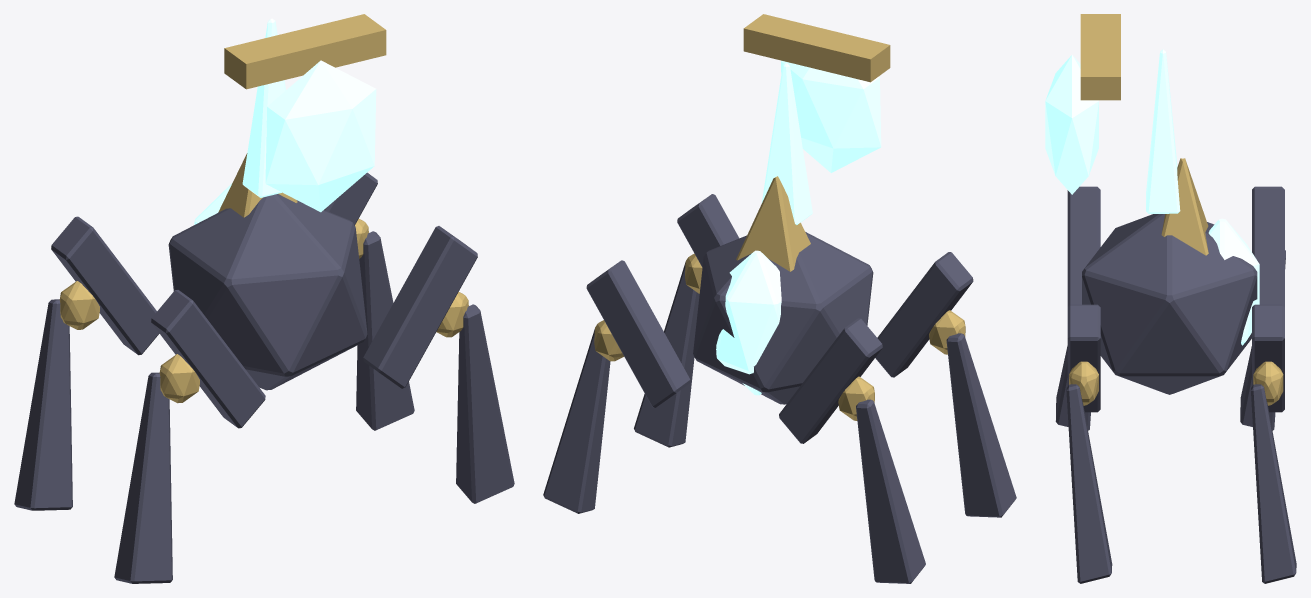
The model's file is LTW_SpireWalker_Creep.fbx.
The picture shows the model from 3 angles, left to right: view 1: azimuth 30°, elevation 25°; view 2: azimuth 150°, elevation 25°; view 3: azimuth 270°, elevation 25°; orthographic projection. The views are drawn at different scales.
Parts seen in each view (by area): view 1: LTW_SpireWalker_Creep; view 2: LTW_SpireWalker_Creep; view 3: LTW_SpireWalker_Creep.
Part boxes in pixels (x1,y1,x2,y2): LTW_SpireWalker_Creep: (14, 14, 514, 583); LTW_SpireWalker_Creep: (543, 14, 1016, 583); LTW_SpireWalker_Creep: (1045, 14, 1296, 583).
Size of the model in its own units: 73.61 by 87.99 by 43.82.
